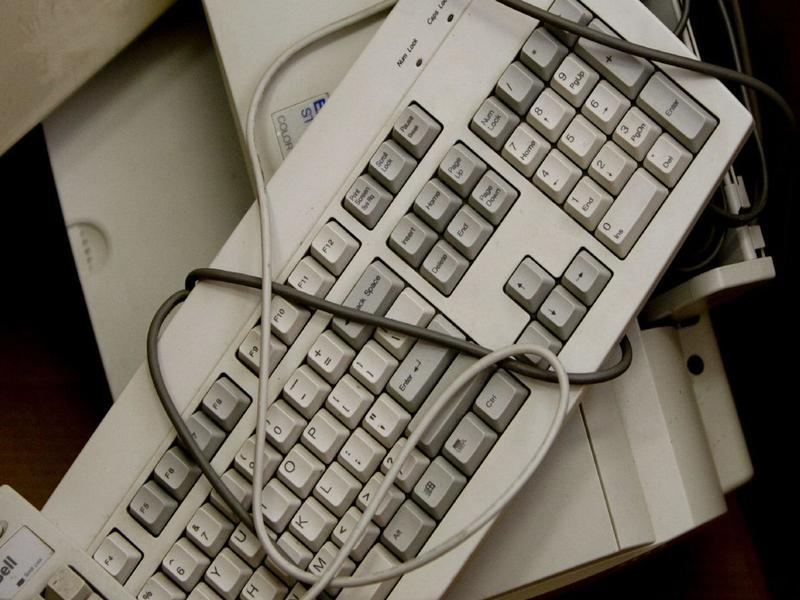keyboard: (50, 2, 759, 600)
